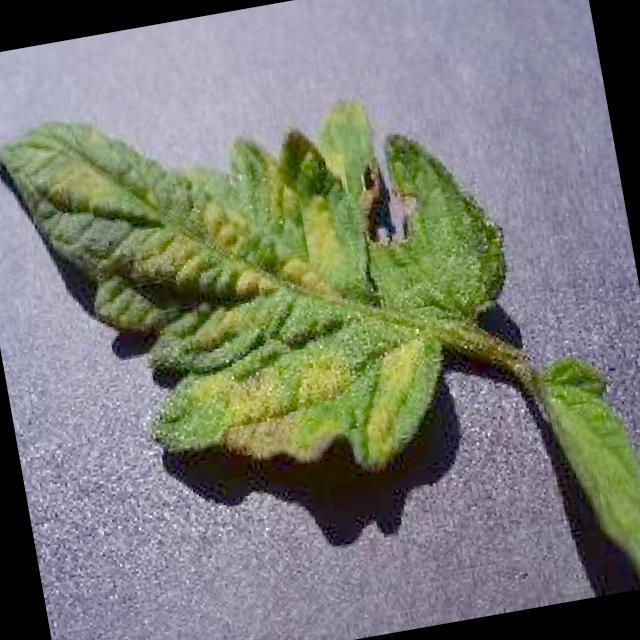Tomato mold leaf: (0, 51, 540, 524)
